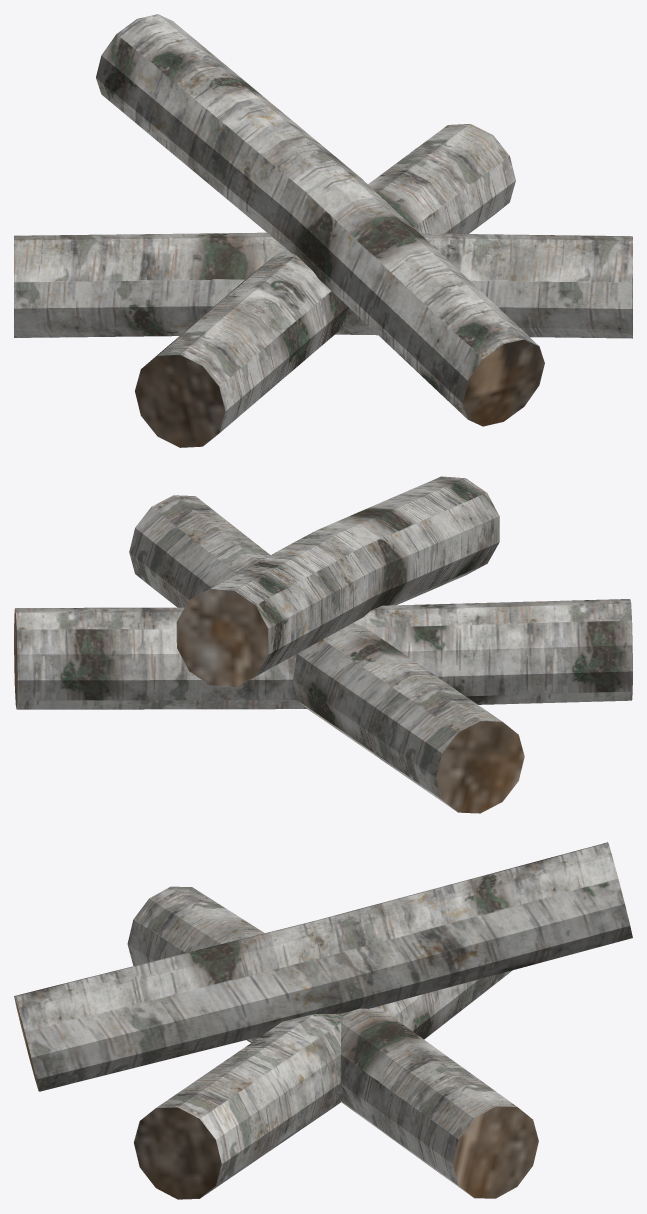
Rendered from campfire.fbx.
3 views of the same model, one above another, from view 1: azimuth 30°, elevation 25°; view 2: azimuth 150°, elevation 25°; view 3: azimuth 270°, elevation 25° (orthographic).
Parts seen in each view (by area): view 1: campfire; view 2: campfire; view 3: campfire.
Part boxes in pixels (<box>): campfire: <box>14,14,632,447</box>; campfire: <box>14,476,632,813</box>; campfire: <box>14,842,632,1199</box>.
Size of the model in its own units: 187 by 78.82 by 199.
